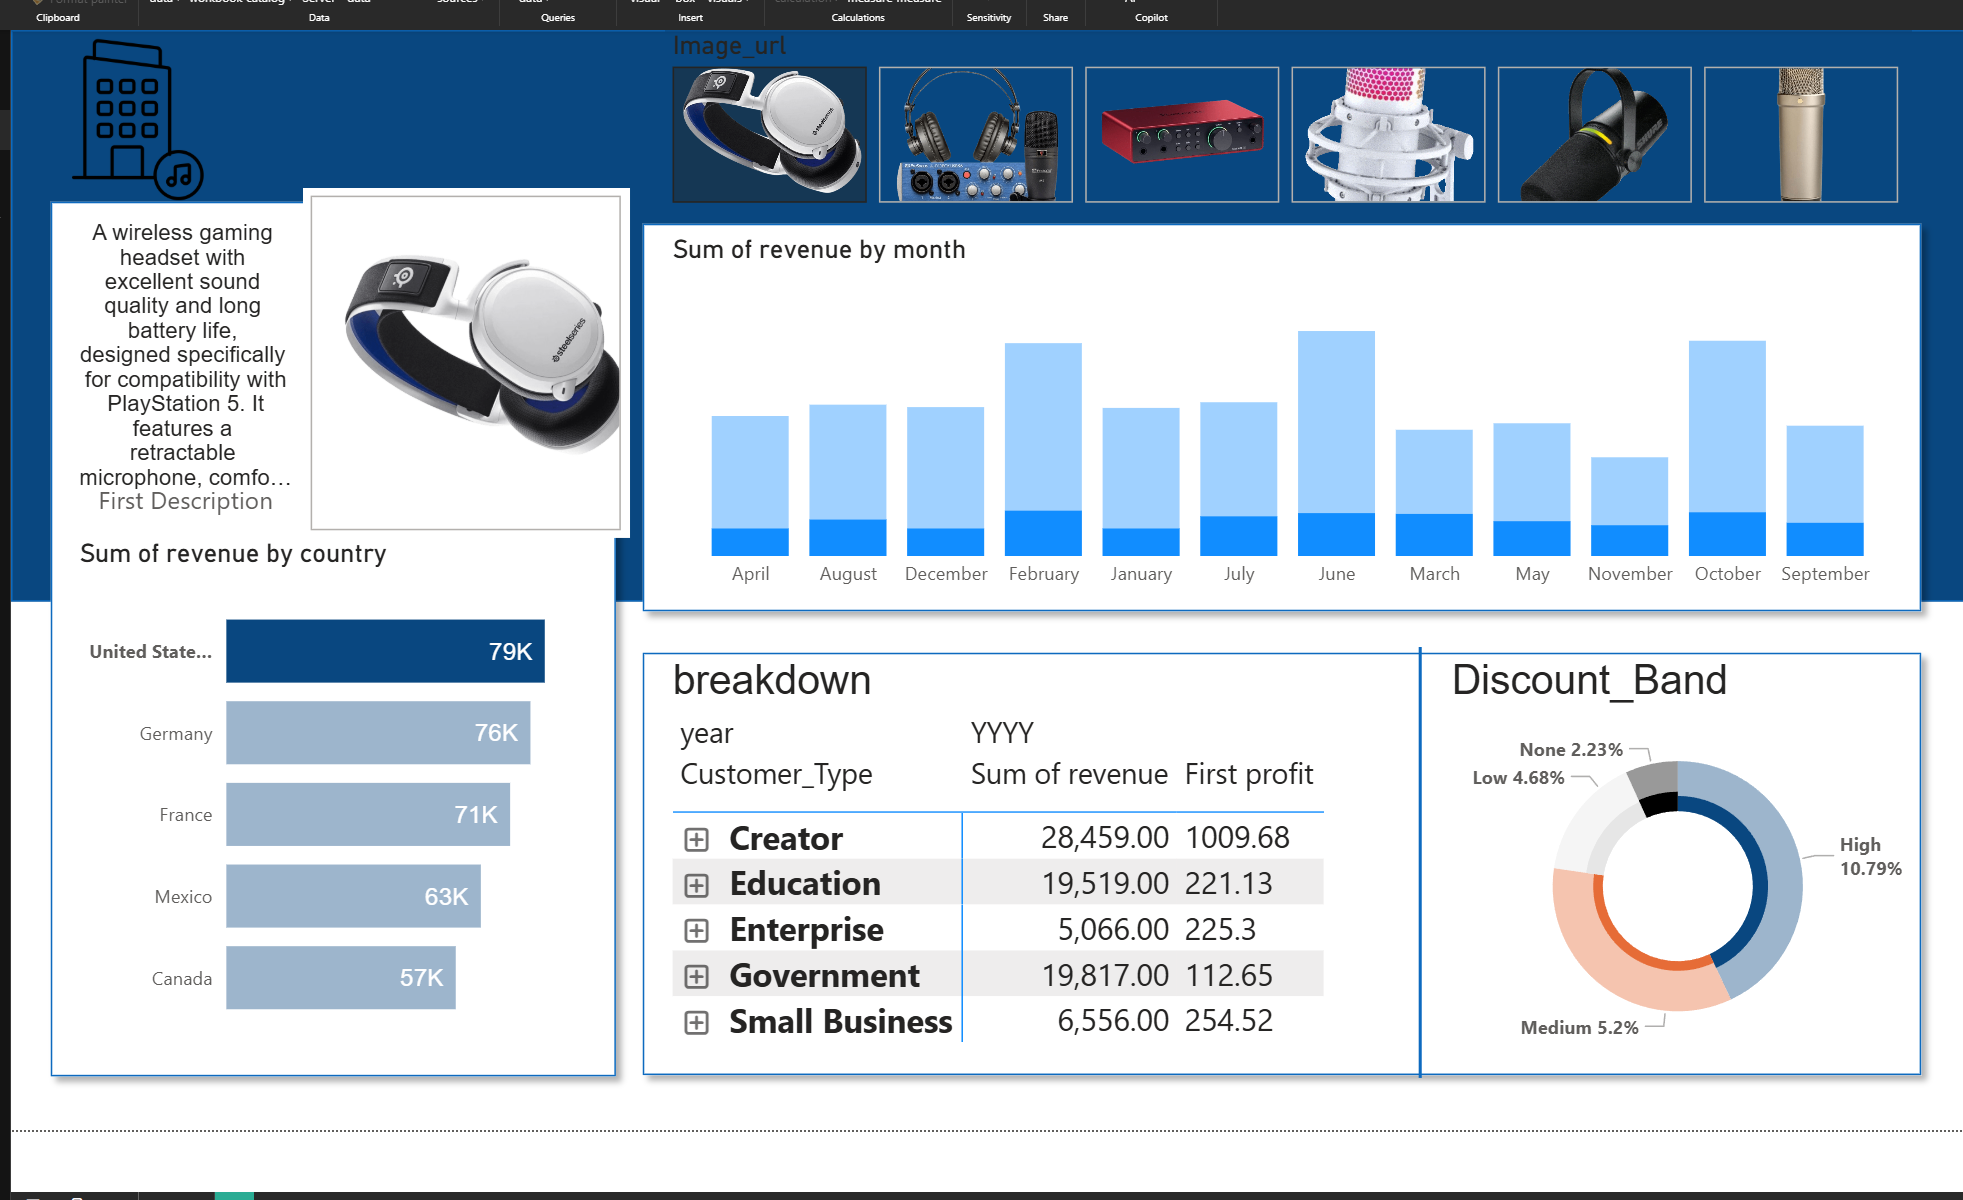

The dashboard page shown, as its layout file describes it:
{"tool":"powerbi","page":{"name":"Page 1","canvas":[1280,720],"ordinal":0},"visuals":[{"type":"shape","box":[0,0,1280,374.1],"z":0},{"type":"shape","box":[17.2,103.2,387.8,590.3],"z":1000},{"type":"shape","box":[404.5,398.8,854.6,294.4],"z":2000},{"type":"shape","box":[404.5,117.7,854.6,271.6],"z":3000},{"type":"image","box":[17.1,0,132.9,117.7],"z":4000},{"type":"advancedSlicerVisual","fields":{"Values":["Query1.Image_url"]},"box":[427.9,0,815.8,118.4],"z":5000},{"type":"cardVisual","fields":{"Data":["Min(Query1.Image_url)"]},"box":[184.5,110.6,214,229],"z":6000},{"type":"card","fields":{"Values":["Min(Query1.Description)"]},"box":[38.2,103.2,152.8,229.3],"z":7000},{"type":"clusteredBarChart","fields":{"Category":["Query1.country"],"Y":["Sum(Query1.revenue)"]},"box":[40.1,332.4,351.5,336.2],"z":8000},{"type":"columnChart","fields":{"Category":["Query1.month","Query1.date.Variation.Date Hierarchy.Year","Query1.date.Variation.Date Hierarchy.Quarter","Query1.date.Variation.Date Hierarchy.Month","Query1.date.Variation.Date Hierarchy.Day"],"Y":["Sum(Query1.revenue)"]},"box":[427.9,133.7,815.8,240.7],"z":9000},{"type":"donutChart","title":" Discount_Band","fields":{"Category":["Query1.Discount_Band"],"Y":["Sum(Query1.revenue)"]},"box":[938,410,306,270],"z":10000},{"type":"pivotTable","title":"breakdown","fields":{"Rows":["Query1.Customer_Type","Query1.Product"],"Columns":["Query1.year"],"Values":["Sum(Query1.revenue)","Min(Query1.profit)"]},"box":[428,410,494,270],"z":11000},{"type":"shape","box":[772,404,300,282],"z":12000}]}

Visuals, with their boxes on the page's 1280x720 design canvas (x1, y1, x2, y2). These are canvas units, not pixel positions in the 1963x1200 screenshot, which may show the page scaled, cropped or inside an application window:
shape: bbox=[0, 0, 1280, 374]
shape: bbox=[17, 103, 405, 694]
shape: bbox=[404, 399, 1259, 693]
shape: bbox=[404, 118, 1259, 389]
image: bbox=[17, 0, 150, 118]
advancedSlicerVisual - Query1.Image_url: bbox=[428, 0, 1244, 118]
cardVisual - Min(Query1.Image_url): bbox=[184, 111, 398, 340]
card - Min(Query1.Description): bbox=[38, 103, 191, 332]
clusteredBarChart - Query1.country x Sum(Query1.revenue): bbox=[40, 332, 392, 669]
columnChart - Query1.month x Query1.date.Variation.Date Hierarchy.Year: bbox=[428, 134, 1244, 374]
" Discount_Band" donutChart: bbox=[938, 410, 1244, 680]
"breakdown" pivotTable: bbox=[428, 410, 922, 680]
shape: bbox=[772, 404, 1072, 686]
